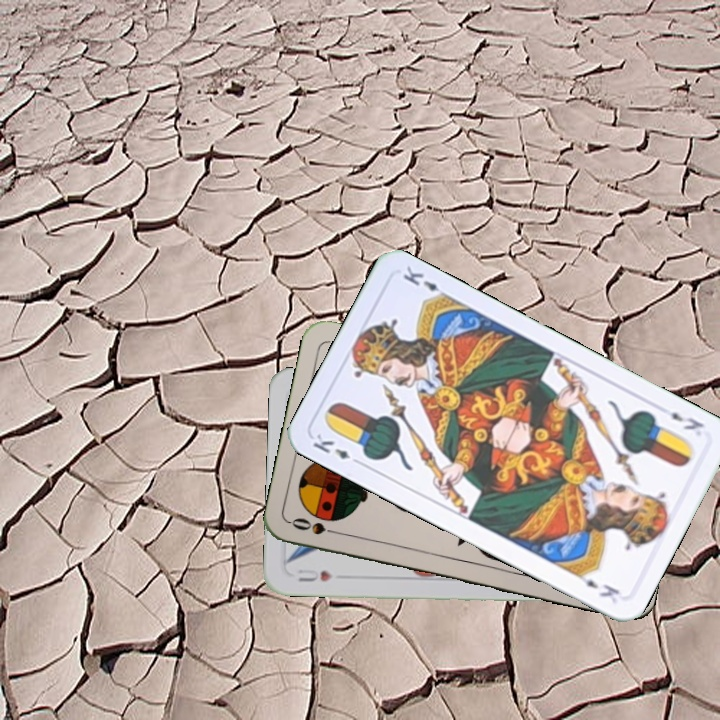EK: (308, 429, 365, 468), (667, 408, 707, 433)
HU: (293, 565, 334, 584)
SO: (287, 513, 346, 538)
